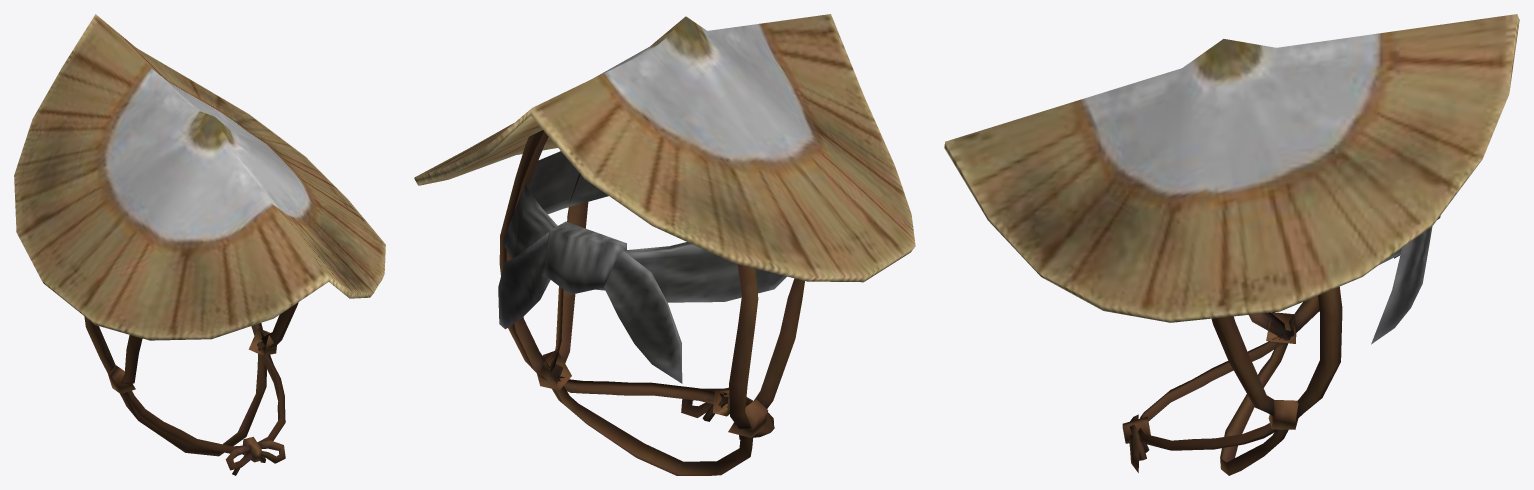
The model's file is helm-mediumguardhousesoldiers.glb.
3 renders of one model, left to right at view 1: azimuth 30°, elevation 25°; view 2: azimuth 150°, elevation 25°; view 3: azimuth 270°, elevation 25°, orthographic. The views are drawn at different scales.
Size of the model in its own units: 0.343 by 0.3792 by 0.4378.
Materials: 1 (1 with a texture image).
